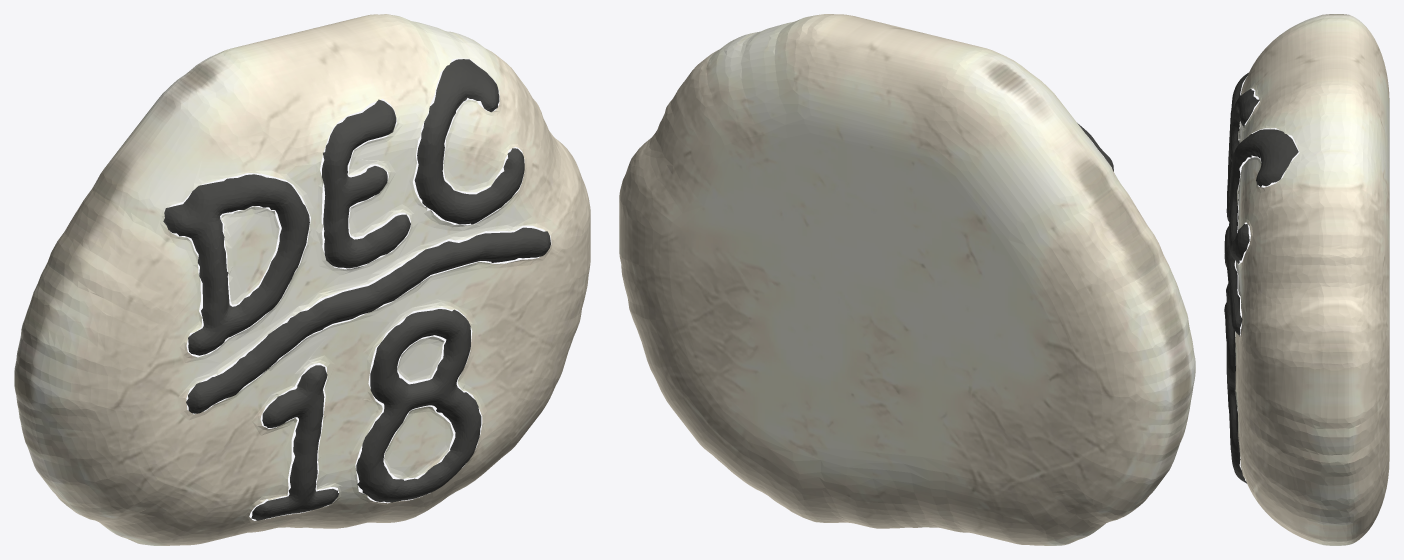
The model's file is IAMWE_XMAS_DEC18.glb.
The picture shows the model from 3 angles, left to right: view 1: azimuth 30°, elevation 25°; view 2: azimuth 150°, elevation 25°; view 3: azimuth 270°, elevation 25°; orthographic projection. The views are drawn at different scales.
Visible parts, largest first — view 1: dec18_paper, dec18_thread; view 2: dec18_paper; view 3: dec18_paper, dec18_thread.
Part boxes in pixels (x1,y1,x2,y2): dec18_paper: (14,14,590,545); dec18_thread: (163,59,550,520); dec18_paper: (619,14,1195,545); dec18_paper: (1235,14,1389,545); dec18_thread: (1224,72,1298,483).
Size of the model in its own units: 1 by 0.8541 by 0.2829.
Materials: 2 (1 with a texture image).
